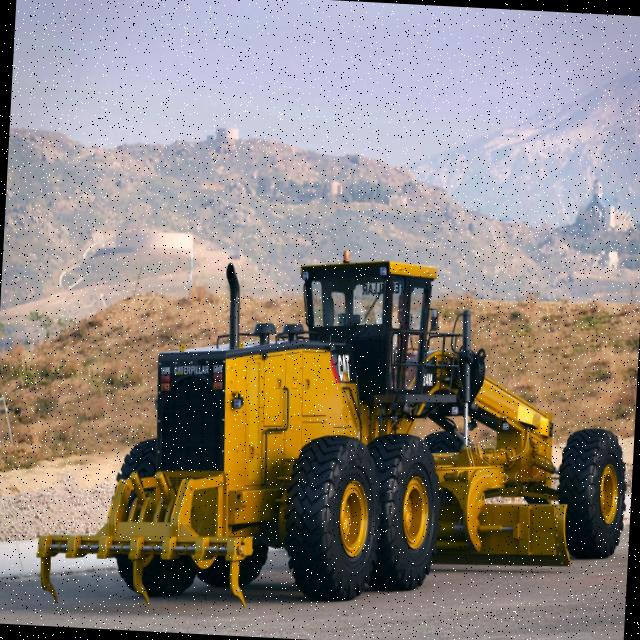Grader: (17, 223, 640, 619)
